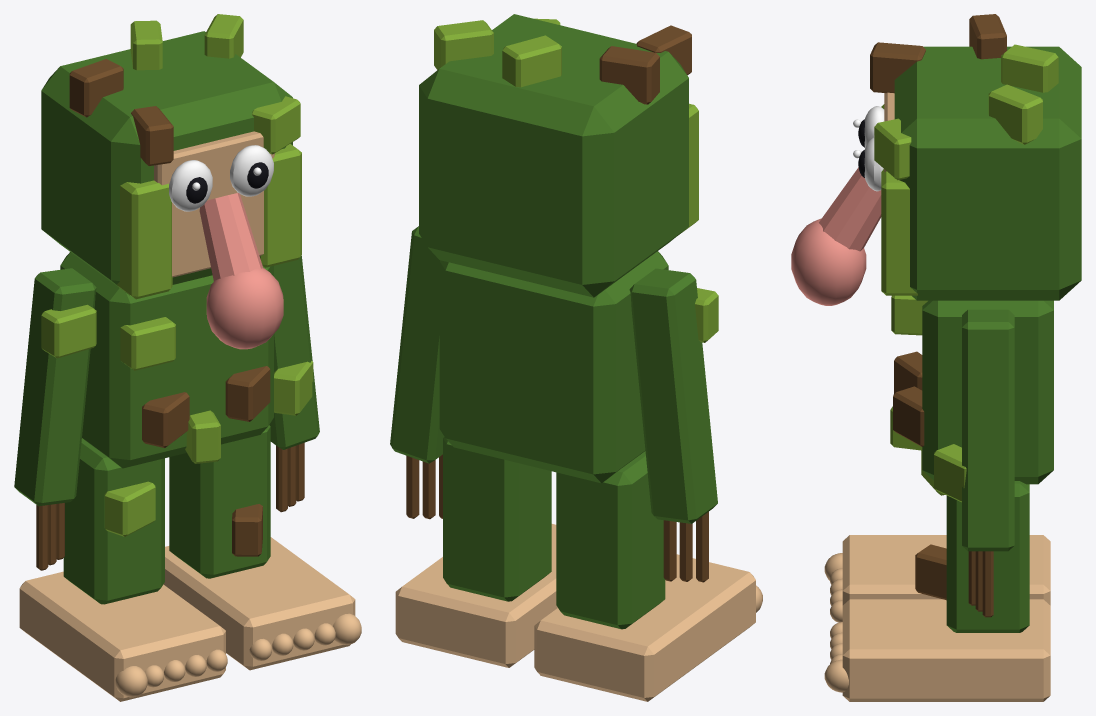
Rendered from Patapim.fbx.
3 views of the same model, side by side, from view 1: azimuth 30°, elevation 25°; view 2: azimuth 150°, elevation 25°; view 3: azimuth 270°, elevation 25° (orthographic). The views are drawn at different scales.
Parts seen in each view (by area): view 1: Patapim_Cabeca, Patapim_Tronco, Patapim_Pe_E, Patapim_Pe_D, Patapim_Braco_E, Patapim_Perna_E, Patapim_Perna_D, Patapim_Rosto, Patapim_Cabelo, Patapim_Ponta_Nariz, Patapim_Braco_D, Patapim_Cabelo_2 (+21 smaller); view 2: Patapim_Cabeca, Patapim_Tronco, Patapim_Pe_E, Patapim_Braco_E, Patapim_Perna_E, Patapim_Perna_D, Patapim_Pe_D, Patapim_Braco_D, Patapim_Musgo_11, Patapim_Musgo_10, Patapim_Musgo_12, Patapim_Musgo_8 (+7 smaller); view 3: Patapim_Cabeca, Patapim_Pe_D, Patapim_Tronco, Patapim_Braco_D, Patapim_Perna_D, Patapim_Pe_E, Patapim_Ponta_Nariz, Patapim_Cabelo_2, Patapim_Nariz, Patapim_Musgo_12, Patapim_Musgo_10, Patapim_Musgo_8 (+12 smaller).
Part boxes in pixels (box(x1,y1,x2,y2)): Patapim_Cabeca: box(41, 31, 292, 295); Patapim_Tronco: box(60, 252, 273, 468); Patapim_Pe_E: box(19, 571, 225, 701); Patapim_Pe_D: box(163, 537, 355, 670); Patapim_Braco_E: box(14, 268, 96, 506); Patapim_Perna_E: box(63, 438, 164, 604); Patapim_Perna_D: box(169, 425, 270, 578); Patapim_Rosto: box(154, 131, 274, 277); Patapim_Cabelo: box(116, 180, 172, 299); Patapim_Ponta_Nariz: box(206, 268, 283, 349); Patapim_Braco_D: box(269, 255, 319, 449); Patapim_Cabelo_2: box(259, 143, 301, 267); Patapim_Cabeca: box(419, 14, 688, 297); Patapim_Tronco: box(439, 251, 668, 483); Patapim_Pe_E: box(534, 554, 755, 701); Patapim_Braco_E: box(629, 268, 717, 523); Patapim_Perna_E: box(556, 451, 665, 629); Patapim_Perna_D: box(443, 437, 551, 601); Patapim_Pe_D: box(395, 524, 557, 667); Patapim_Braco_D: box(390, 226, 444, 463); Patapim_Musgo_11: box(599, 46, 659, 104); Patapim_Musgo_10: box(502, 35, 561, 87); Patapim_Musgo_12: box(434, 20, 493, 69); Patapim_Musgo_8: box(636, 25, 691, 74); Patapim_Cabeca: box(894, 46, 1081, 300); Patapim_Pe_D: box(842, 599, 1050, 701); Patapim_Tronco: box(922, 300, 1053, 484); Patapim_Braco_D: box(962, 309, 1014, 551); Patapim_Perna_D: box(946, 481, 1029, 632); Patapim_Pe_E: box(842, 535, 1050, 605); Patapim_Ponta_Nariz: box(791, 218, 866, 305); Patapim_Cabelo_2: box(881, 169, 918, 295); Patapim_Nariz: box(819, 167, 881, 251); Patapim_Musgo_12: box(988, 84, 1042, 144); Patapim_Musgo_10: box(1001, 44, 1058, 92); Patapim_Musgo_8: box(870, 42, 925, 93).
Bounding box in the file's own units: 68.09 × 132 × 58.68.
